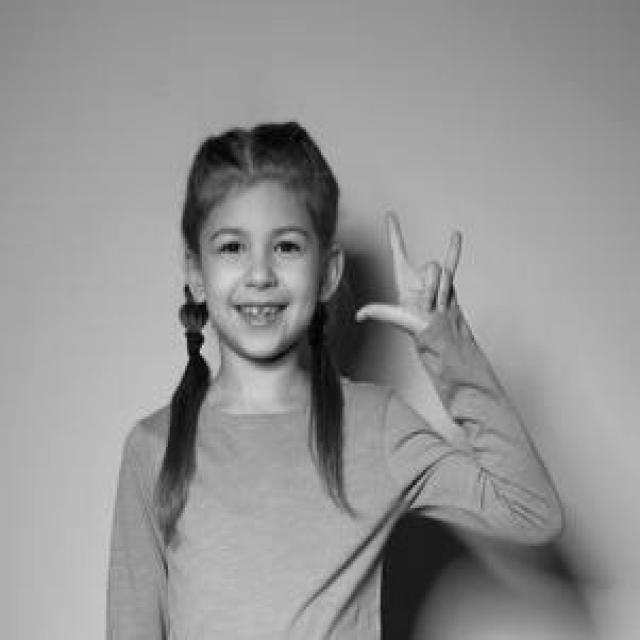i love you: (350, 203, 471, 357)
